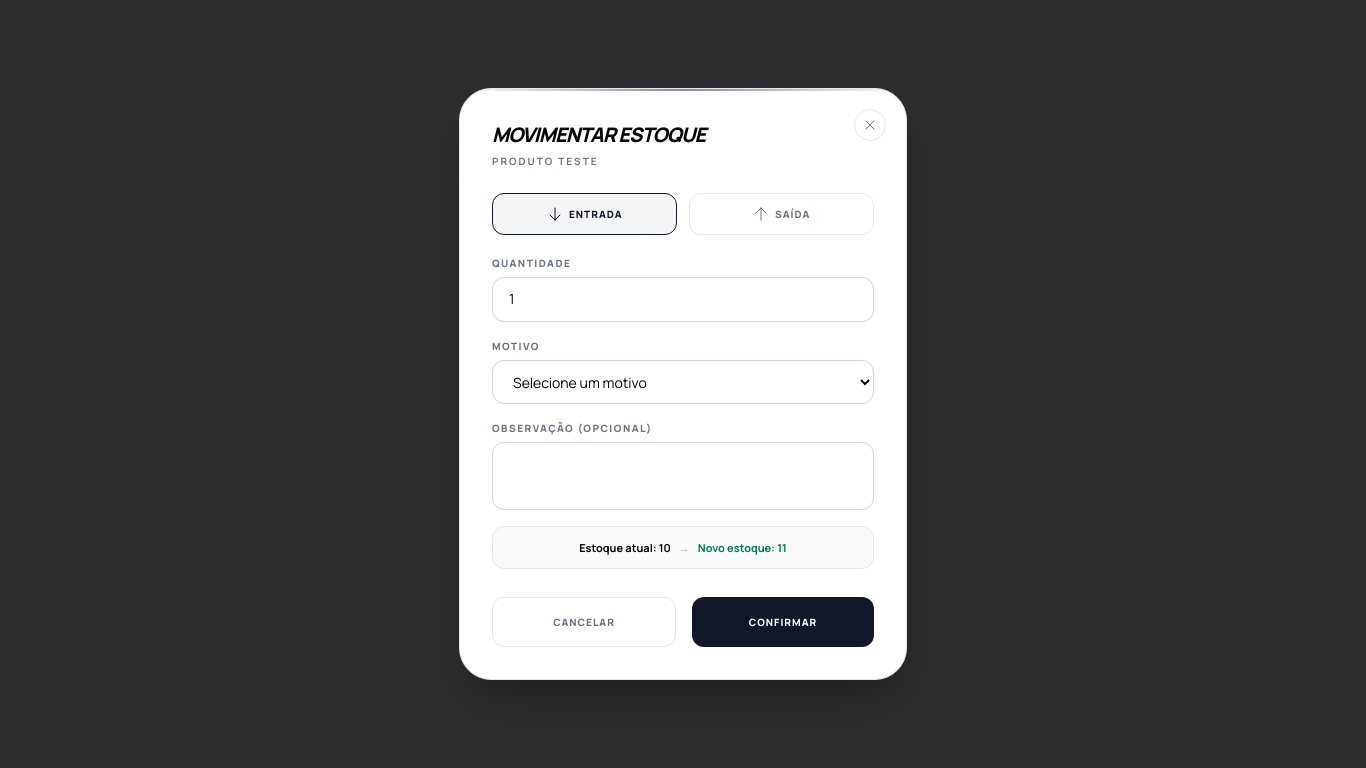
Test: StockMovementModal › blocks submit and shows an error when no reason is selected
The width and height of the screenshot is (1366, 768).
Replace the text in the number field with test id "input-movement-quantity" with "5" at coordinates (683, 299), box [492,277,874,322]
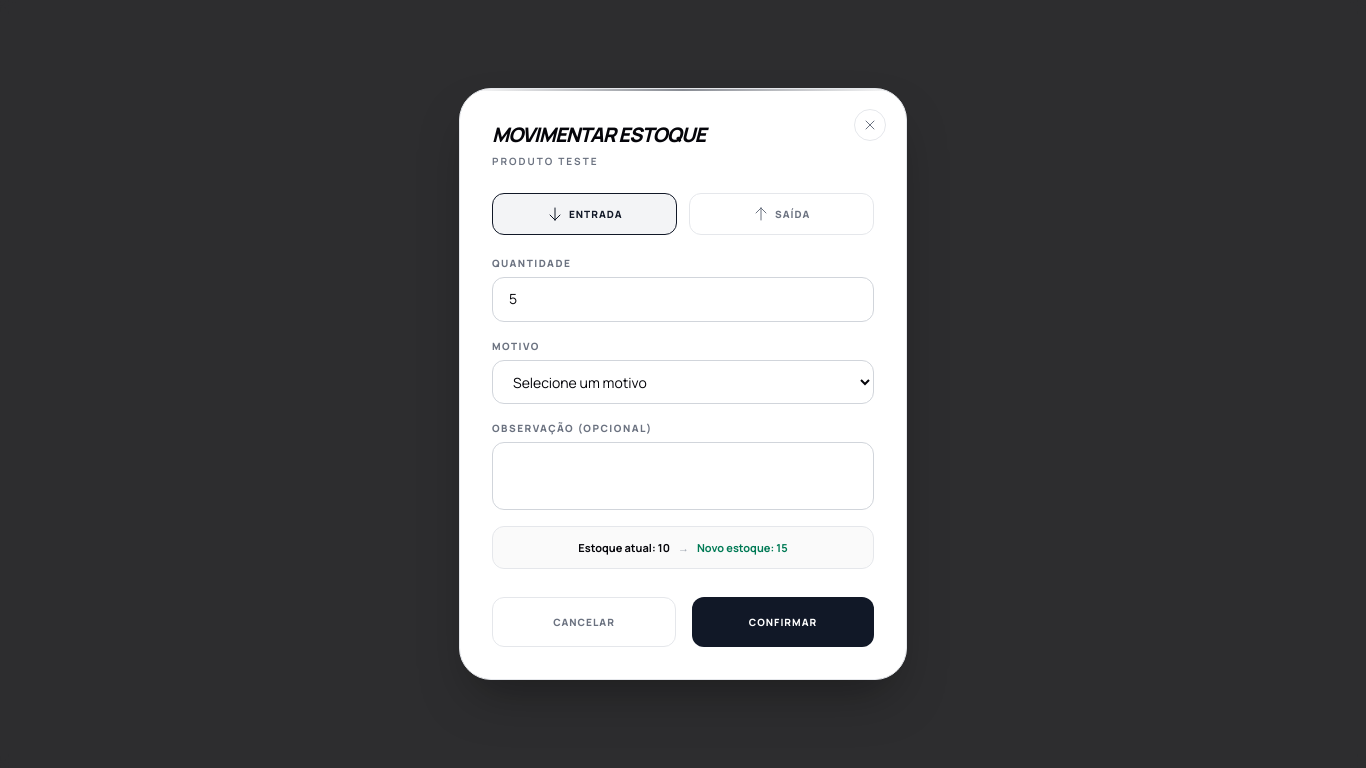
Click the button with test id "btn-confirm-movement" at coordinates (783, 622), box [692,597,874,647]
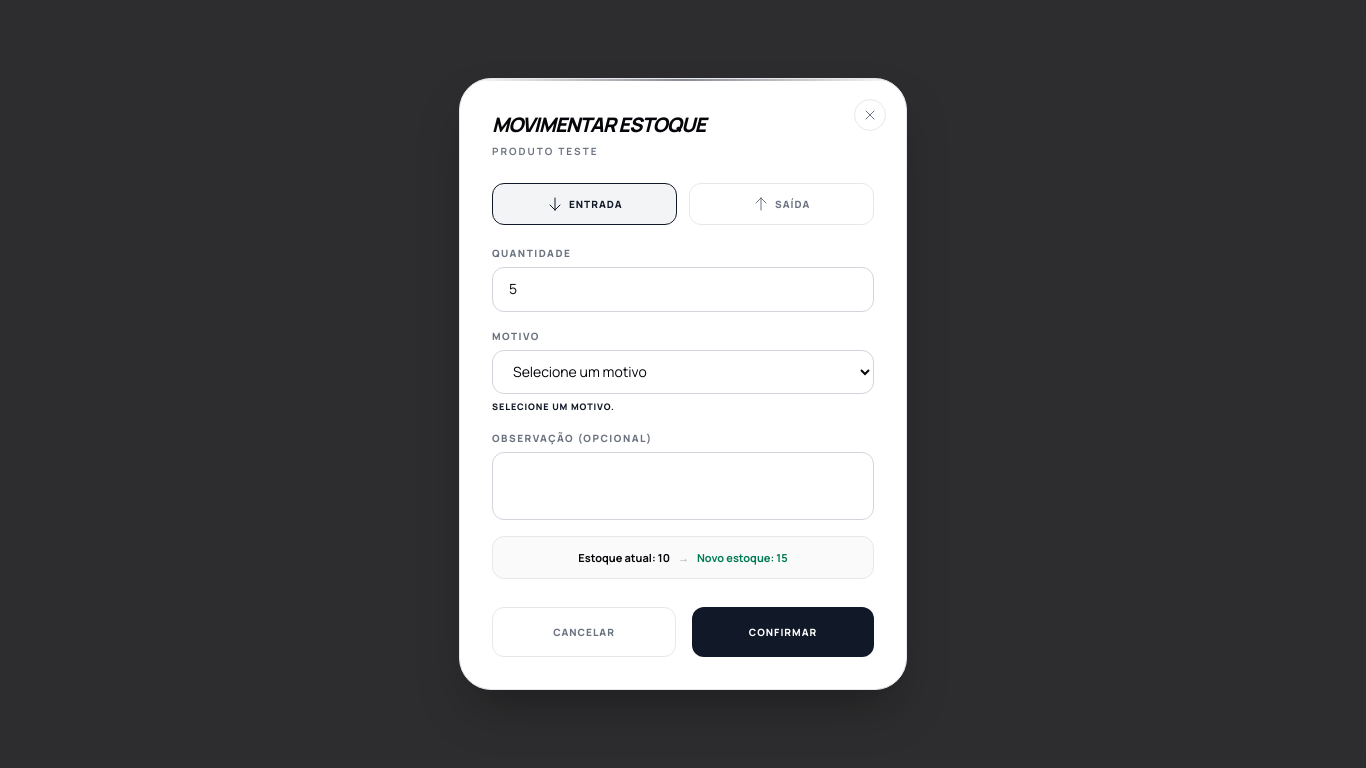
Expected: the text "Selecione um motivo." is shown, [492,400,615,413]
